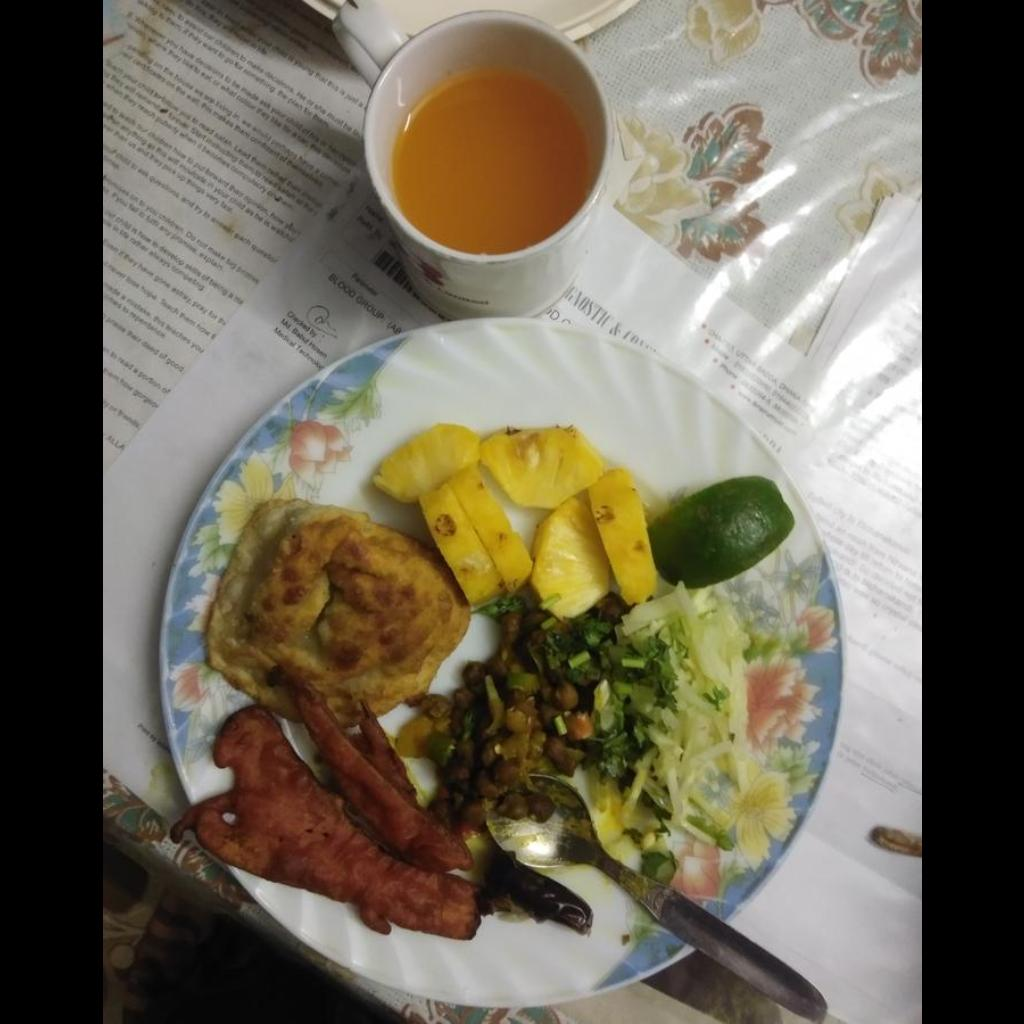beguni: (162, 709, 477, 942)
chola: (396, 601, 624, 827)
cucumber: (620, 585, 791, 862)
egg-poached: (206, 501, 457, 701)
juice: (398, 67, 587, 242)
lemon: (647, 476, 793, 588)
pineapple: (372, 425, 657, 612)
